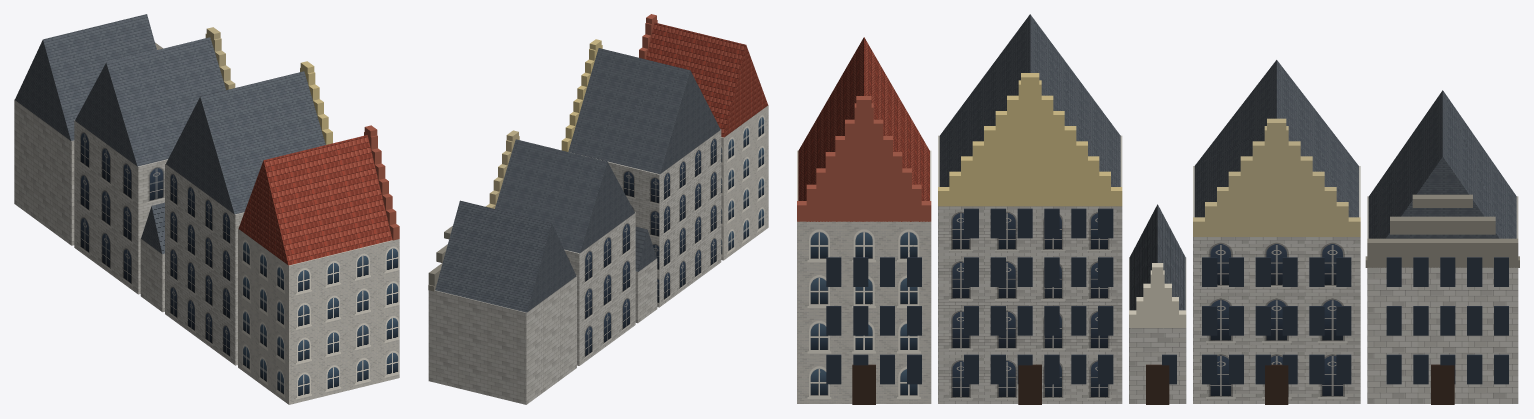
Rendered from graslei.obj.
3 renders of one model, left to right at view 1: azimuth 30°, elevation 25°; view 2: azimuth 150°, elevation 25°; view 3: azimuth 270°, elevation 25°, orthographic. The views are drawn at different scales.
Visible parts, largest first — view 1: part97, part98, part62, part24, part61, part23, part2, part1, part52, part53; view 2: part1, part62, part61, part2, part24, part23, part98, part97, part52, part53; view 3: part61, part23, part97, part1, part2, part62, part24, part98, part53, part52, part4, part63 (+28 smaller).
Part boxes in pixels (<box>): part97: <box>238,228,399,404</box>; part98: <box>238,135,392,265</box>; part62: <box>166,71,325,214</box>; part24: <box>75,37,225,166</box>; part61: <box>165,163,244,365</box>; part23: <box>74,120,167,294</box>; part2: <box>15,14,156,140</box>; part1: <box>14,99,74,245</box>; part52: <box>140,238,164,312</box>; part53: <box>141,202,164,253</box>; part1: <box>428,275,576,404</box>; part62: <box>568,48,720,174</box>; part61: <box>570,129,721,307</box>; part2: <box>435,200,576,312</box>; part24: <box>495,139,634,253</box>; part23: <box>564,212,635,365</box>; part98: <box>646,22,767,137</box>; part97: <box>721,105,768,260</box>; part52: <box>635,258,657,323</box>; part53: <box>635,226,656,271</box>; part61: <box>938,135,1122,403</box>; part23: <box>1193,166,1360,403</box>; part97: <box>797,150,931,403</box>; part1: <box>1367,196,1518,403</box>; part2: <box>1368,90,1516,238</box>; part62: <box>939,14,1120,186</box>; part24: <box>1194,60,1358,217</box>; part98: <box>798,37,929,200</box>; part53: <box>1129,204,1185,310</box>; part52: <box>1129,257,1186,403</box>; part4: <box>1367,238,1518,260</box>; part63: <box>938,187,1122,206</box>.
Bounding box in the file's own units: 10.12 × 21.5 × 43.1.
14 materials, 7 textured.
